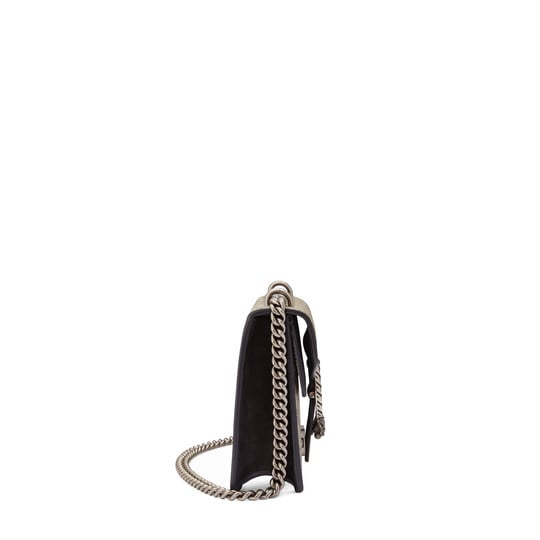Gucci: (216, 288, 344, 501), (294, 314, 331, 457)
